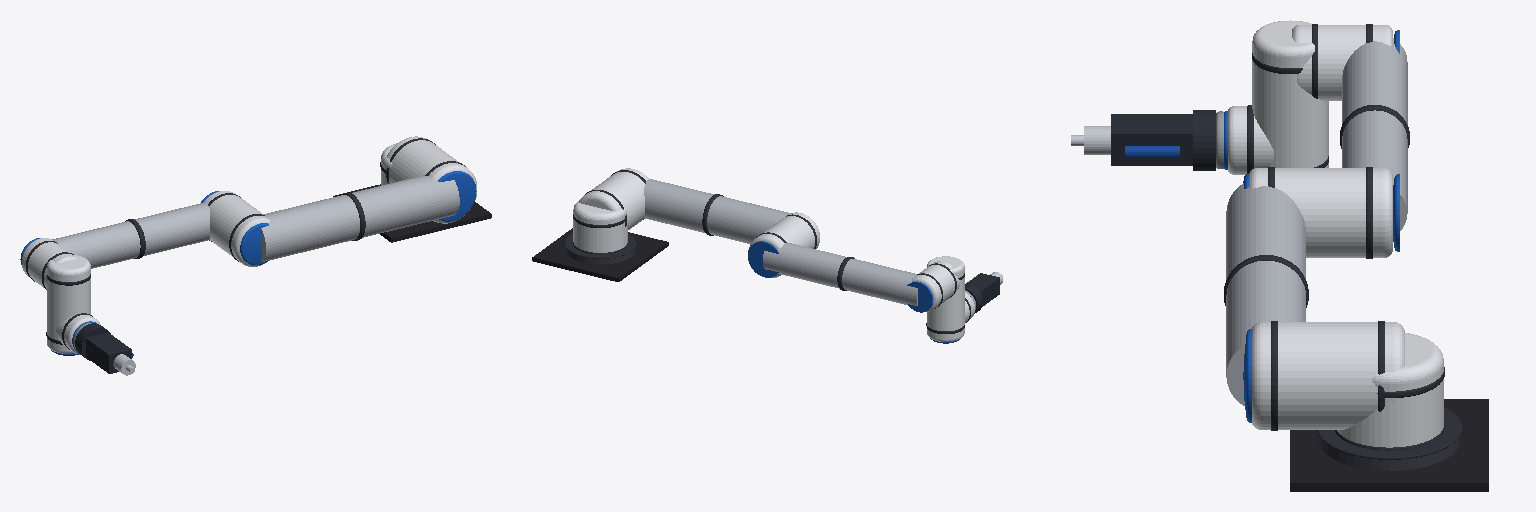
robot.urdf — sixaxis_ur5like:
<?xml version="1.0"?>
<robot name="sixaxis_ur5like">
  <material name="housing"><color rgba="0.86 0.87 0.89 1.0"/></material>
  <material name="tube"><color rgba="0.72 0.74 0.77 1.0"/></material>
  <material name="cap"><color rgba="0.16 0.42 0.78 1.0"/></material>
  <material name="ring"><color rgba="0.22 0.23 0.26 1.0"/></material>
  <material name="base"><color rgba="0.28 0.29 0.32 1.0"/></material>
  <material name="plate"><color rgba="0.18 0.18 0.2 1.0"/></material>
  <material name="flange"><color rgba="0.62 0.64 0.67 1.0"/></material>
  <material name="tcp"><color rgba="0.95 0.55 0.1 1.0"/></material>
  <link name="base_link">
    <inertial><mass value="1"/><inertia ixx="1" iyy="1" izz="1" ixy="0" ixz="0" iyz="0"/></inertial>
    <visual><origin xyz="0.0 0.0 0.005" rpy="0.0 0.0 0.0"/><geometry><box size="0.22 0.22 0.01"/></geometry><material name="plate"/></visual>
    <collision><origin xyz="0.0 0.0 0.005" rpy="0.0 0.0 0.0"/><geometry><box size="0.22 0.22 0.01"/></geometry></collision>
    <visual><origin xyz="0.0 0.0 0.0185" rpy="0.0 0.0 0.0"/><geometry><mesh filename="meshes/housing_L0170_R0780.obj" scale="1 1 1"/></geometry><material name="base"/></visual>
    <collision><origin xyz="0.0 0.0 0.0185" rpy="0.0 0.0 0.0"/><geometry><cylinder length="0.017" radius="0.078"/></geometry></collision>
    <visual><origin xyz="0.0 0.0 0.0255" rpy="0.0 0.0 0.0"/><geometry><mesh filename="meshes/ring_L0030_R0800.obj" scale="1 1 1"/></geometry><material name="ring"/></visual>
  </link>
  <link name="link1">
    <inertial><origin xyz="0.0 0.0 0.0445795" rpy="0.0 0.0 0.0"/><mass value="3.7"/><inertia ixx="0.005781042578308333" iyy="0.005781042578308333" izz="0.00666" ixy="0" ixz="0" iyz="0"/></inertial>
    <visual><origin xyz="0.0 0.0 0.06" rpy="0.0 0.0 0.0"/><geometry><mesh filename="meshes/housing_L1200_R0600.obj" scale="1 1 1"/></geometry><material name="housing"/></visual>
    <collision><origin xyz="0.0 0.0 0.06" rpy="0.0 0.0 0.0"/><geometry><cylinder length="0.12" radius="0.06"/></geometry></collision>
    <visual><origin xyz="0.0 0.0 0.025999999999999995" rpy="0.0 0.0 0.0"/><geometry><mesh filename="meshes/ring_L0100_R0612.obj" scale="1 1 1"/></geometry><material name="ring"/></visual>
    <visual><origin xyz="0.0 0.0 0.094" rpy="0.0 0.0 0.0"/><geometry><mesh filename="meshes/ring_L0100_R0612.obj" scale="1 1 1"/></geometry><material name="ring"/></visual>
  </link>
  <link name="link2">
    <inertial><origin xyz="-0.2125 0.0 0.0" rpy="0.0 -1.5707963267948966 0.0"/><mass value="8.393"/><inertia ixx="0.13267934166666667" iyy="0.13267934166666667" izz="0.012694412500000002" ixy="0" ixz="0" iyz="0"/></inertial>
    <visual><origin xyz="0.0 0.0 0.068" rpy="0.0 0.0 0.0"/><geometry><mesh filename="meshes/housing_L1700_R0600.obj" scale="1 1 1"/></geometry><material name="housing"/></visual>
    <collision><origin xyz="0.0 0.0 0.068" rpy="0.0 0.0 0.0"/><geometry><cylinder length="0.17" radius="0.06"/></geometry></collision>
    <visual><origin xyz="0.0 0.0 0.008999999999999994" rpy="0.0 0.0 0.0"/><geometry><mesh filename="meshes/ring_L0100_R0612.obj" scale="1 1 1"/></geometry><material name="ring"/></visual>
    <visual><origin xyz="0.0 0.0 0.15600000000000003" rpy="0.0 0.0 0.0"/><geometry><mesh filename="meshes/cap_L0100_R0516.obj" scale="1 1 1"/></geometry><material name="cap"/></visual>
    <visual><origin xyz="0.0 0.0 0.127" rpy="0.0 0.0 0.0"/><geometry><mesh filename="meshes/ring_L0100_R0612.obj" scale="1 1 1"/></geometry><material name="ring"/></visual>
    <visual><origin xyz="-0.2125 0.0 0.13585" rpy="0.0 -1.5707963267948966 0.0"/><geometry><mesh filename="meshes/tube_L4250_R0440.obj" scale="1 1 1"/></geometry><material name="tube"/></visual>
    <collision><origin xyz="-0.2125 0.0 0.13585" rpy="0.0 -1.5707963267948966 0.0"/><geometry><cylinder length="0.425" radius="0.044"/></geometry></collision>
    <visual><origin xyz="-0.2125 0.0 0.13585" rpy="-0.0 1.5707963267948966 0.0"/><geometry><mesh filename="meshes/ring_L0120_R0470.obj" scale="1 1 1"/></geometry><material name="ring"/></visual>
  </link>
  <link name="link3">
    <inertial><origin xyz="-0.196125 0.0 0.0" rpy="0.0 -1.5707963267948966 0.0"/><mass value="2.275"/><inertia ixx="0.030321022265624994" iyy="0.030321022265624994" izz="0.0023034375" ixy="0" ixz="0" iyz="0"/></inertial>
    <visual><origin xyz="0.0 0.0 0.076" rpy="0.0 0.0 0.0"/><geometry><mesh filename="meshes/housing_L1600_R0500.obj" scale="1 1 1"/></geometry><material name="housing"/></visual>
    <collision><origin xyz="0.0 0.0 0.076" rpy="0.0 0.0 0.0"/><geometry><cylinder length="0.16" radius="0.05"/></geometry></collision>
    <visual><origin xyz="0.0 0.0 -0.007000000000000006" rpy="0.0 0.0 0.0"/><geometry><mesh filename="meshes/cap_L0100_R0430.obj" scale="1 1 1"/></geometry><material name="cap"/></visual>
    <visual><origin xyz="0.0 0.0 0.021999999999999992" rpy="0.0 0.0 0.0"/><geometry><mesh filename="meshes/ring_L0100_R0510.obj" scale="1 1 1"/></geometry><material name="ring"/></visual>
    <visual><origin xyz="0.0 0.0 0.159" rpy="0.0 0.0 0.0"/><geometry><mesh filename="meshes/cap_L0100_R0430.obj" scale="1 1 1"/></geometry><material name="cap"/></visual>
    <visual><origin xyz="0.0 0.0 0.13" rpy="0.0 0.0 0.0"/><geometry><mesh filename="meshes/ring_L0100_R0510.obj" scale="1 1 1"/></geometry><material name="ring"/></visual>
    <visual><origin xyz="-0.196125 0.0 0.016149999999999998" rpy="0.0 -1.5707963267948966 0.0"/><geometry><mesh filename="meshes/tube_L3922_R0360.obj" scale="1 1 1"/></geometry><material name="tube"/></visual>
    <collision><origin xyz="-0.196125 0.0 0.016149999999999998" rpy="0.0 -1.5707963267948966 0.0"/><geometry><cylinder length="0.39225" radius="0.036"/></geometry></collision>
    <visual><origin xyz="-0.196125 0.0 0.016149999999999998" rpy="-0.0 1.5707963267948966 0.0"/><geometry><mesh filename="meshes/ring_L0120_R0390.obj" scale="1 1 1"/></geometry><material name="ring"/></visual>
  </link>
  <link name="link4">
    <inertial><origin xyz="0.0 0.0 0.054575" rpy="0.0 0.0 0.0"/><mass value="1.219"/><inertia ixx="0.0016978356439583335" iyy="0.0016978356439583335" izz="0.0009752000000000001" ixy="0" ixz="0" iyz="0"/></inertial>
    <visual><origin xyz="0.0 0.0 0.052" rpy="0.0 0.0 0.0"/><geometry><mesh filename="meshes/housing_L1120_R0420.obj" scale="1 1 1"/></geometry><material name="housing"/></visual>
    <collision><origin xyz="0.0 0.0 0.052" rpy="0.0 0.0 0.0"/><geometry><cylinder length="0.112" radius="0.042"/></geometry></collision>
    <visual><origin xyz="0.0 0.0 -0.006999999999999999" rpy="0.0 0.0 0.0"/><geometry><mesh filename="meshes/cap_L0100_R0361.obj" scale="1 1 1"/></geometry><material name="cap"/></visual>
    <visual><origin xyz="0.0 0.0 0.021999999999999995" rpy="0.0 0.0 0.0"/><geometry><mesh filename="meshes/ring_L0100_R0428.obj" scale="1 1 1"/></geometry><material name="ring"/></visual>
    <visual><origin xyz="0.0 0.0 0.082" rpy="0.0 0.0 0.0"/><geometry><mesh filename="meshes/ring_L0100_R0428.obj" scale="1 1 1"/></geometry><material name="ring"/></visual>
  </link>
  <link name="link5">
    <inertial><origin xyz="0.0 0.0 0.047325" rpy="0.0 0.0 0.0"/><mass value="1.219"/><inertia ixx="0.001397646735625" iyy="0.001397646735625" izz="0.0009752000000000001" ixy="0" ixz="0" iyz="0"/></inertial>
    <visual><origin xyz="0.0 0.0 0.0535" rpy="0.0 0.0 0.0"/><geometry><mesh filename="meshes/housing_L1770_R0420.obj" scale="1 1 1"/></geometry><material name="housing"/></visual>
    <collision><origin xyz="0.0 0.0 0.0535" rpy="0.0 0.0 0.0"/><geometry><cylinder length="0.177" radius="0.042"/></geometry></collision>
    <visual><origin xyz="0.0 0.0 -0.009000000000000001" rpy="0.0 0.0 0.0"/><geometry><mesh filename="meshes/ring_L0100_R0428.obj" scale="1 1 1"/></geometry><material name="ring"/></visual>
    <visual><origin xyz="0.0 0.0 0.145" rpy="0.0 0.0 0.0"/><geometry><mesh filename="meshes/cap_L0100_R0361.obj" scale="1 1 1"/></geometry><material name="cap"/></visual>
    <visual><origin xyz="0.0 0.0 0.11599999999999999" rpy="0.0 0.0 0.0"/><geometry><mesh filename="meshes/ring_L0100_R0428.obj" scale="1 1 1"/></geometry><material name="ring"/></visual>
  </link>
  <link name="link6">
    <inertial><origin xyz="0.0 0.0 0.04115" rpy="0.0 0.0 0.0"/><mass value="0.1879"/><inertia ixx="0.00016360280758333335" iyy="0.00016360280758333335" izz="0.00011508875000000002" ixy="0" ixz="0" iyz="0"/></inertial>
    <visual><origin xyz="0.0 0.0 0.0275" rpy="0.0 0.0 0.0"/><geometry><mesh filename="meshes/housing_L0850_R0380.obj" scale="1 1 1"/></geometry><material name="housing"/></visual>
    <collision><origin xyz="0.0 0.0 0.0275" rpy="0.0 0.0 0.0"/><geometry><cylinder length="0.085" radius="0.038"/></geometry></collision>
    <visual><origin xyz="0.0 0.0 0.010999999999999996" rpy="0.0 0.0 0.0"/><geometry><mesh filename="meshes/ring_L0100_R0388.obj" scale="1 1 1"/></geometry><material name="ring"/></visual>
    <visual><origin xyz="0.0 0.0 0.073" rpy="0.0 0.0 0.0"/><geometry><mesh filename="meshes/cap_L0100_R0327.obj" scale="1 1 1"/></geometry><material name="cap"/></visual>
    <visual><origin xyz="0.0 0.0 0.044000000000000004" rpy="0.0 0.0 0.0"/><geometry><mesh filename="meshes/ring_L0100_R0388.obj" scale="1 1 1"/></geometry><material name="ring"/></visual>
    <visual><origin xyz="0.0 0.0 0.07629999999999999" rpy="0.0 0.0 0.0"/><geometry><mesh filename="meshes/ring_L0120_R0320.obj" scale="1 1 1"/></geometry><material name="flange"/></visual>
    <collision><origin xyz="0.0 0.0 0.07629999999999999" rpy="0.0 0.0 0.0"/><geometry><cylinder length="0.012" radius="0.032"/></geometry></collision>
    <visual><origin xyz="0.0 0.0 0.0818" rpy="0.0 0.0 0.0"/><geometry><cylinder length="0.001" radius="0.01"/></geometry><material name="tcp"/></visual>
  </link>
  <link name="flange"><inertial><mass value="1e-06"/><inertia ixx="1e-12" iyy="1e-12" izz="1e-12" ixy="0" ixz="0" iyz="0"/></inertial></link>
  <joint name="joint1" type="revolute"><parent link="base_link"/><child link="link1"/><origin xyz="0.0 0.0 0.0" rpy="0.0 0.0 0.0"/><axis xyz="0 0 1"/><limit lower="-6.283185307179586" upper="6.283185307179586" effort="150.0" velocity="3.141592653589793"/></joint>
  <joint name="joint2" type="revolute"><parent link="link1"/><child link="link2"/><origin xyz="0.0 0.0 0.089159" rpy="1.5707963267948966 0.0 0.0"/><axis xyz="0 0 1"/><limit lower="-6.283185307179586" upper="6.283185307179586" effort="150.0" velocity="3.141592653589793"/></joint>
  <joint name="joint3" type="revolute"><parent link="link2"/><child link="link3"/><origin xyz="-0.425 0.0 0.0" rpy="0.0 0.0 0.0"/><axis xyz="0 0 1"/><limit lower="-6.283185307179586" upper="6.283185307179586" effort="150.0" velocity="3.141592653589793"/></joint>
  <joint name="joint4" type="revolute"><parent link="link3"/><child link="link4"/><origin xyz="-0.39225 0.0 0.0" rpy="0.0 0.0 0.0"/><axis xyz="0 0 1"/><limit lower="-6.283185307179586" upper="6.283185307179586" effort="28.0" velocity="3.141592653589793"/></joint>
  <joint name="joint5" type="revolute"><parent link="link4"/><child link="link5"/><origin xyz="0.0 0.0 0.10915" rpy="1.5707963267948966 0.0 0.0"/><axis xyz="0 0 1"/><limit lower="-6.283185307179586" upper="6.283185307179586" effort="28.0" velocity="3.141592653589793"/></joint>
  <joint name="joint6" type="revolute"><parent link="link5"/><child link="link6"/><origin xyz="0.0 0.0 0.09465" rpy="-1.5707963267948966 0.0 0.0"/><axis xyz="0 0 1"/><limit lower="-6.283185307179586" upper="6.283185307179586" effort="28.0" velocity="3.141592653589793"/></joint>
  <joint name="flange_joint" type="fixed"><parent link="link6"/><child link="flange"/><origin xyz="0.0 0.0 0.0823" rpy="0.0 0.0 0.0"/></joint>
  <material name="gbody"><color rgba="0.20 0.22 0.26 1"/></material>
  <material name="gcap"><color rgba="0.78 0.80 0.83 1"/></material>
  <material name="ghose"><color rgba="0.15 0.35 0.65 1"/></material>
  <link name="gun"><inertial><mass value="0.9"/><origin xyz="0.0 0.0 0.07"/><inertia ixx="0.001920" iyy="0.001920" izz="4e-4" ixy="0" ixz="0" iyz="0"/></inertial><visual><origin xyz="0.0 0 0.012500"/><geometry><cylinder length="0.025000" radius="0.034"/></geometry><material name="gbody"/></visual><collision><origin xyz="0.0 0 0.012500"/><geometry><cylinder length="0.025000" radius="0.034"/></geometry></collision><visual><origin xyz="0.0 0 0.070000"/><geometry><box size="0.05 0.04 0.090000"/></geometry><material name="gbody"/></visual><collision><origin xyz="0.0 0 0.070000"/><geometry><box size="0.05 0.04 0.090000"/></geometry></collision><visual><origin xyz="0.03 0 0.070000"/><geometry><cylinder length="0.060000" radius="0.007"/></geometry><material name="ghose"/></visual><collision><origin xyz="0.03 0 0.070000"/><geometry><cylinder length="0.060000" radius="0.007"/></geometry></collision><visual><origin xyz="0.0 0 0.130000"/><geometry><cylinder length="0.030000" radius="0.016"/></geometry><material name="gcap"/></visual><collision><origin xyz="0.0 0 0.130000"/><geometry><cylinder length="0.030000" radius="0.016"/></geometry></collision><visual><origin xyz="0.0 0 0.152500"/><geometry><cylinder length="0.015000" radius="0.006"/></geometry><material name="gcap"/></visual><collision><origin xyz="0.0 0 0.152500"/><geometry><cylinder length="0.015000" radius="0.006"/></geometry></collision></link>
  <link name="tcp"><inertial><mass value="1e-6"/><inertia ixx="1e-12" iyy="1e-12" izz="1e-12" ixy="0" ixz="0" iyz="0"/></inertial></link>
  <joint name="gun_mount" type="fixed"><parent link="flange"/><child link="gun"/></joint>
  <joint name="tcp_joint" type="fixed"><parent link="gun"/><child link="tcp"/><origin xyz="0 0 0.160000000"/></joint>
</robot>

--- What the picture shows (computed from the rendered views, not written in the file) ---
3 views of the same robot in one strip: view 1: azimuth 30°, elevation 25°; view 2: azimuth 150°, elevation 25°; view 3: azimuth 270°, elevation 25° (orthographic).
Model sixaxis_ur5like with 10 links and 9 joints (6 revolute, 3 fixed), rooted at base_link, posed every joint at zero.
Links seen in each view (by area): view 1: link2, link3, link5, gun, link4, base_link, link6; view 2: link2, link3, base_link, link1, link5, link4, gun; view 3: link2, link3, base_link, link5, link1, gun, link4, link6.
Boxes of the visible links, box(x1,y1,x2,y2) form: link2: box(261, 136, 476, 261); link3: box(52, 191, 269, 268); link5: box(46, 255, 90, 355); gun: box(75, 323, 135, 375); link4: box(20, 238, 76, 289); base_link: box(333, 184, 491, 242); link6: box(56, 313, 100, 354); link2: box(579, 168, 790, 243); link3: box(748, 212, 917, 305); base_link: box(532, 228, 668, 281); link1: box(573, 201, 627, 253); link5: box(926, 256, 964, 343); link4: box(907, 261, 959, 312); gun: box(965, 272, 1002, 313); link2: box(1224, 183, 1404, 430); link3: box(1243, 38, 1409, 258); base_link: box(1290, 399, 1488, 491); link5: box(1252, 20, 1328, 167); link1: box(1335, 333, 1444, 450); gun: box(1071, 110, 1215, 170); link4: box(1292, 24, 1399, 100); link6: box(1216, 105, 1273, 174).
Bounding box of the posed robot: 0.9701 × 0.4614 × 0.2112 m (x, y, z).
31 mesh visuals loaded from 21 distinct referenced files (21 OBJ).
